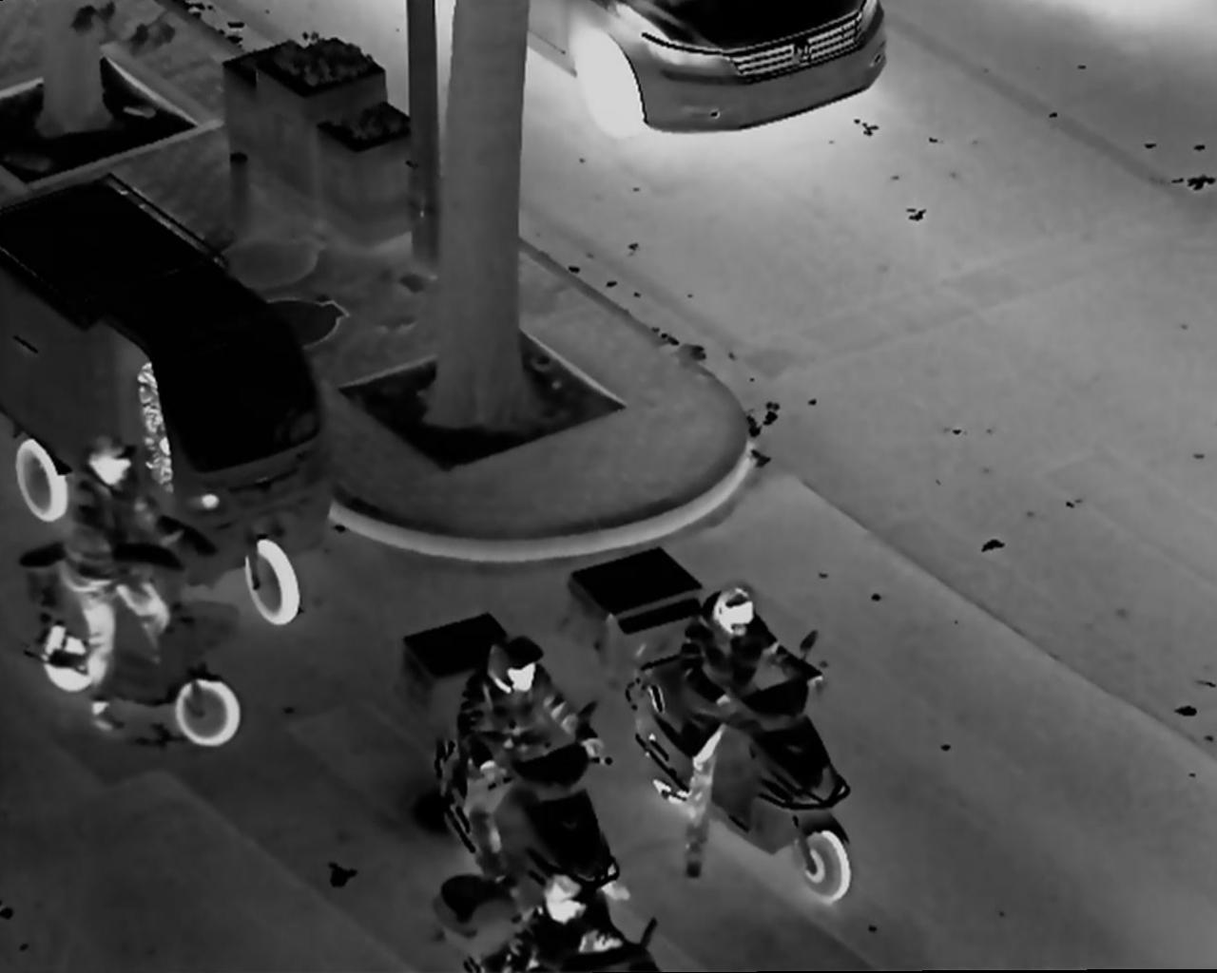person: (672, 582, 825, 886), (452, 637, 612, 896), (48, 433, 174, 736), (511, 865, 614, 973)
